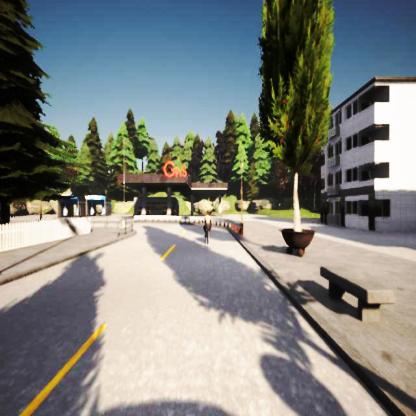motobike: (202, 209, 212, 243)
